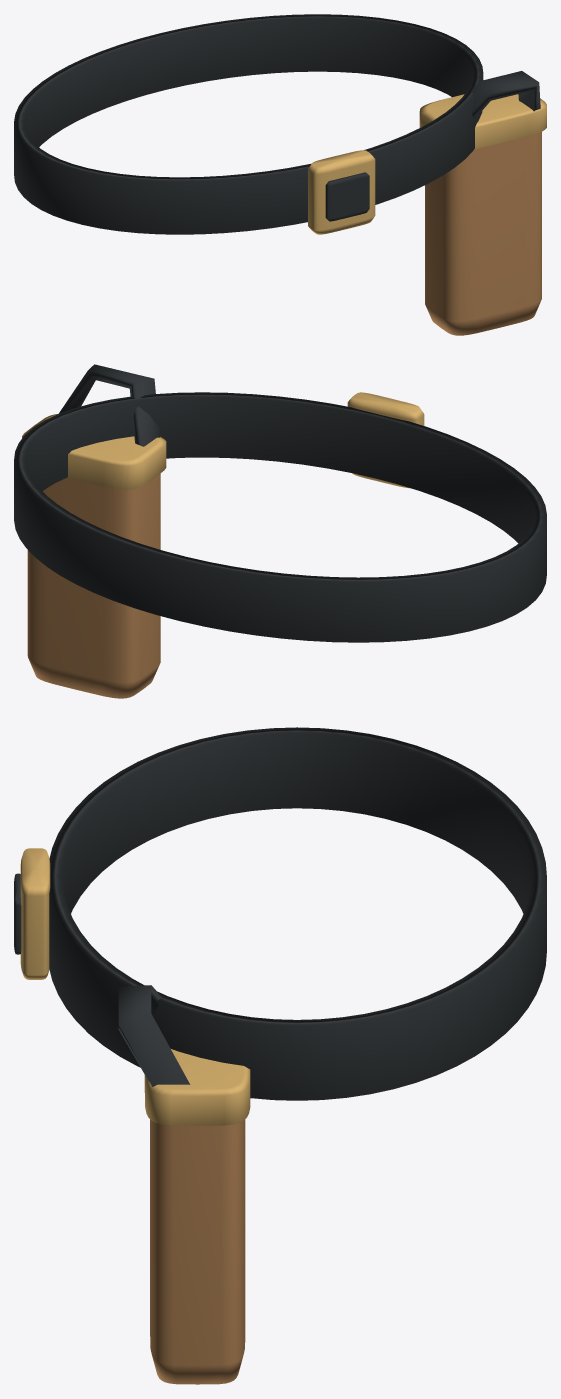
Rendered from 14-holster.glb.
3 renders of one model, top to bottom at view 1: azimuth 30°, elevation 25°; view 2: azimuth 150°, elevation 25°; view 3: azimuth 270°, elevation 25°, orthographic. The views are drawn at different scales.
Visible parts, largest first — view 1: 14-holster; view 2: 14-holster; view 3: 14-holster.
Boxes of the visible parts, <box> form: 14-holster: <box>14,14,546,335</box>; 14-holster: <box>14,364,546,698</box>; 14-holster: <box>14,727,546,1384</box>.
Size of the model in its own units: 0.3532 by 0.182 by 0.2465.
